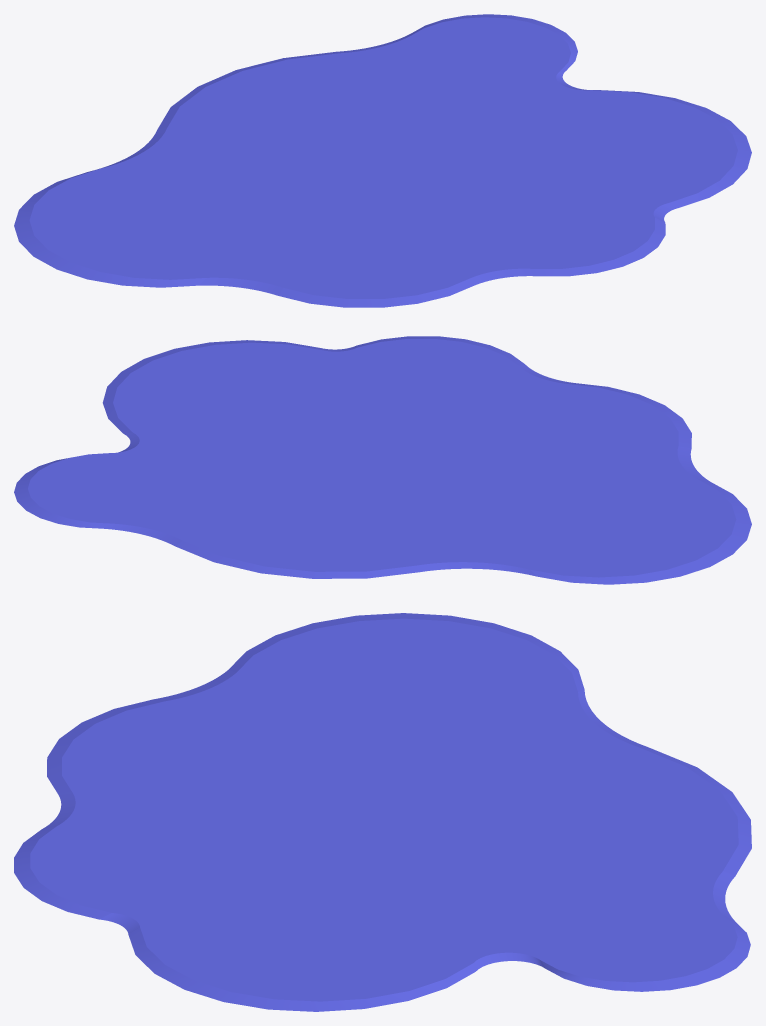
Rendered from puddle.fbx.
3 renders of one model, top to bottom at view 1: azimuth 30°, elevation 25°; view 2: azimuth 150°, elevation 25°; view 3: azimuth 270°, elevation 25°, orthographic. The views are drawn at different scales.
Visible parts, largest first — view 1: puddle; view 2: puddle; view 3: puddle.
Part boxes in pixels (x1,y1,x2,y2): puddle: [14, 14, 751, 307]; puddle: [14, 336, 751, 584]; puddle: [14, 613, 751, 1011].
Size of the model in its own units: 22.67 by 0.0908 by 17.72.
